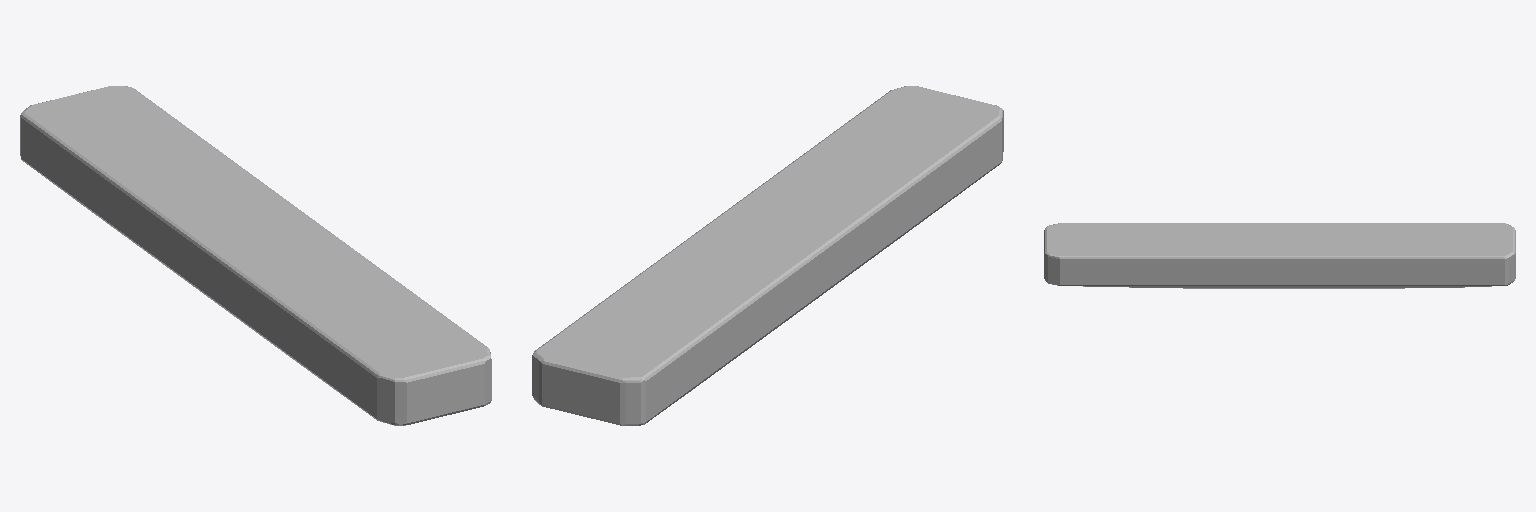
The robot description file, URDF, robot "root":
<?xml version="1.0"?>
<robot name="root">
  <link name="base_link">
    <visual>
      <origin xyz="0 0 0" rpy="0 0 0" />
      <geometry>
        <mesh filename="../meshes/unidex_core_remote-a67e5a678c54d757db8fa1712f9ee93_012.obj" scale="1.0000E+00 1.0000E+00 1.0000E+00" />
      </geometry>
      <material name="">
        <color rgba="7.50E-01 7.50E-01 7.50E-01 1" />
      </material>
    </visual>
    <collision>
      <origin xyz="0 0 0" rpy="0 0 0" />
      <geometry>
        <mesh filename="../meshes/unidex_core_remote-a67e5a678c54d757db8fa1712f9ee93_012.obj" scale="1.0000E+00 1.0000E+00 1.0000E+00" />
      </geometry>
    </collision>
  </link>
</robot>

--- Facts derived from the render (not from the file) ---
The picture shows the robot from 3 angles, left to right: view 1: azimuth 30°, elevation 25°; view 2: azimuth 150°, elevation 25°; view 3: azimuth 270°, elevation 25°; orthographic projection.
Model root with 1 links and 0 joints (none), rooted at base_link, posed all joints at 0.
Links seen in each view (by area): view 1: base_link; view 2: base_link; view 3: base_link.
Boxes of the visible links, x1,y1,x2,y2 form: base_link: [20, 86, 491, 425]; base_link: [532, 86, 1003, 425]; base_link: [1044, 223, 1515, 288].
Bounding box of the posed robot: 0.0404 × 0.2325 × 0.0202 m (x, y, z).
1 mesh visuals loaded from 1 distinct referenced files (1 OBJ).
